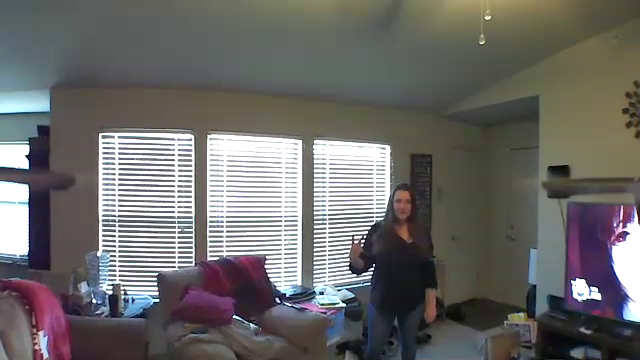peace: (345, 231, 369, 270)
